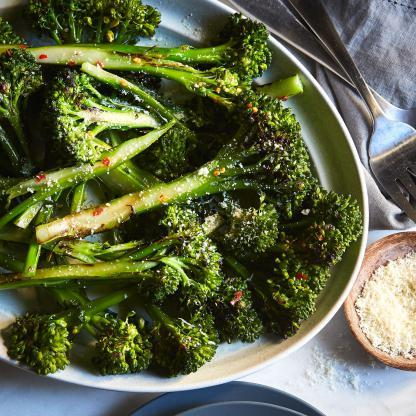broccoli: (0, 0, 364, 379)
